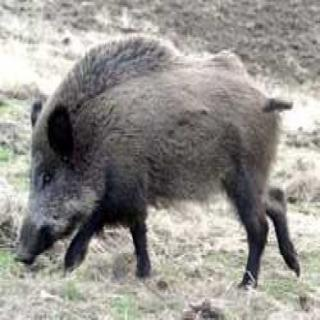Pig: (9, 22, 309, 298)
